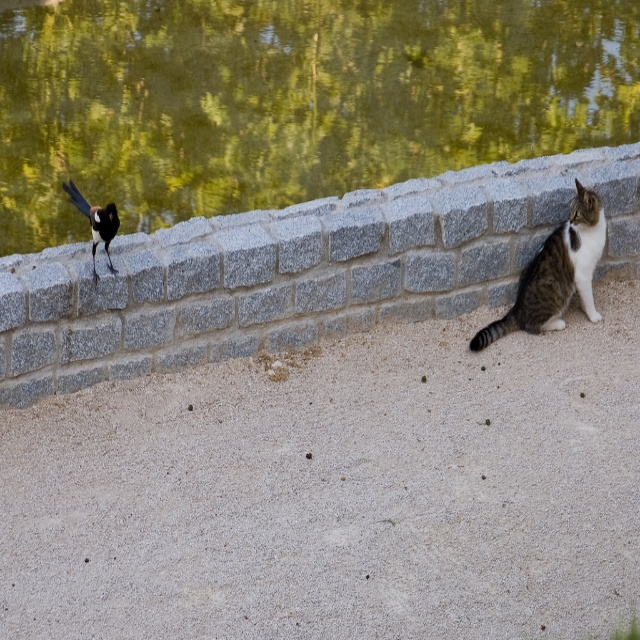Magpie: (64, 180, 121, 286)
